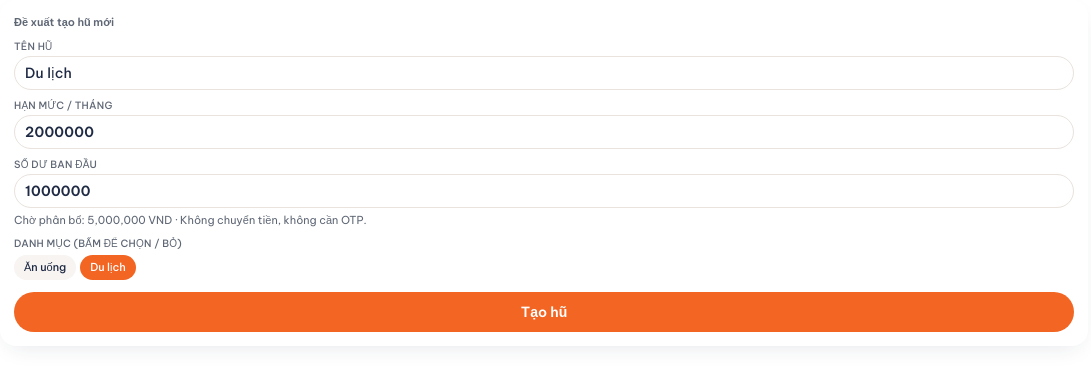
Test: AgentJarFormCard — create with an opening balance › prefills Số dư ban đầu from initial_balance and creates with addJar(jar, balance)
Expected: the field labelled "Số dư ban đầu" holds "1000000", [14,174,1074,208]
Expected: the text "Chờ phân bổ: 5,000,000" is shown, [14,212,172,226]
Click the button "Tạo hũ": coordinates (544, 312) [14,292,1074,332]
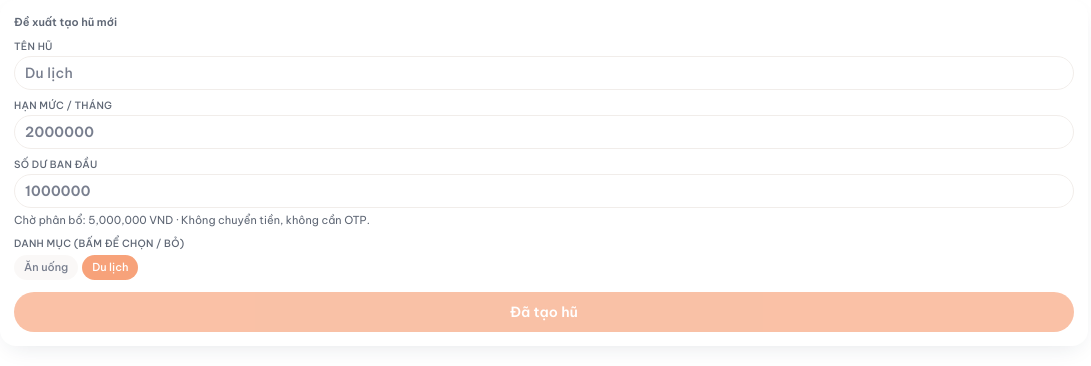
Now the button "Đã tạo hũ" is disabled, box [14,292,1074,332]
